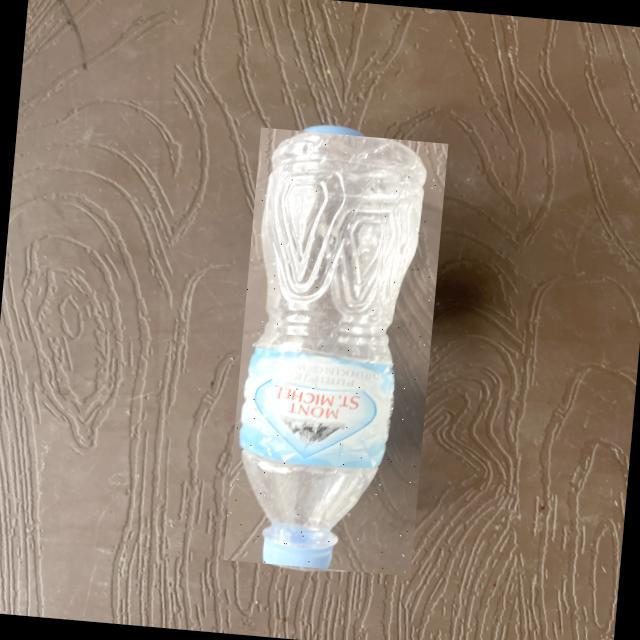REJECT: (222, 127, 447, 576)
